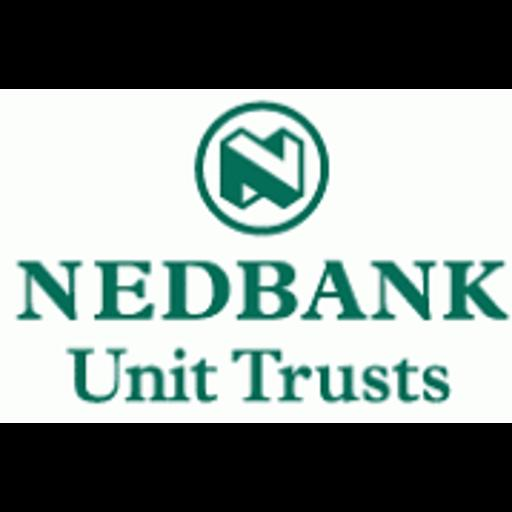NedBank Limited: (0, 89, 512, 423)
